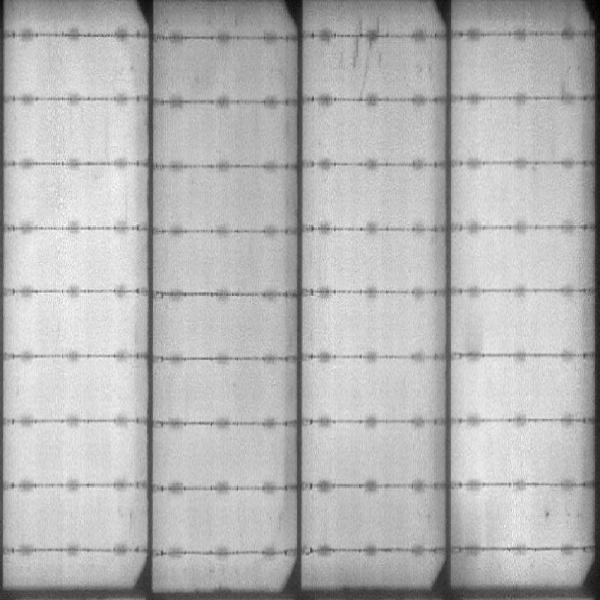scratch: (352, 14, 384, 96)
